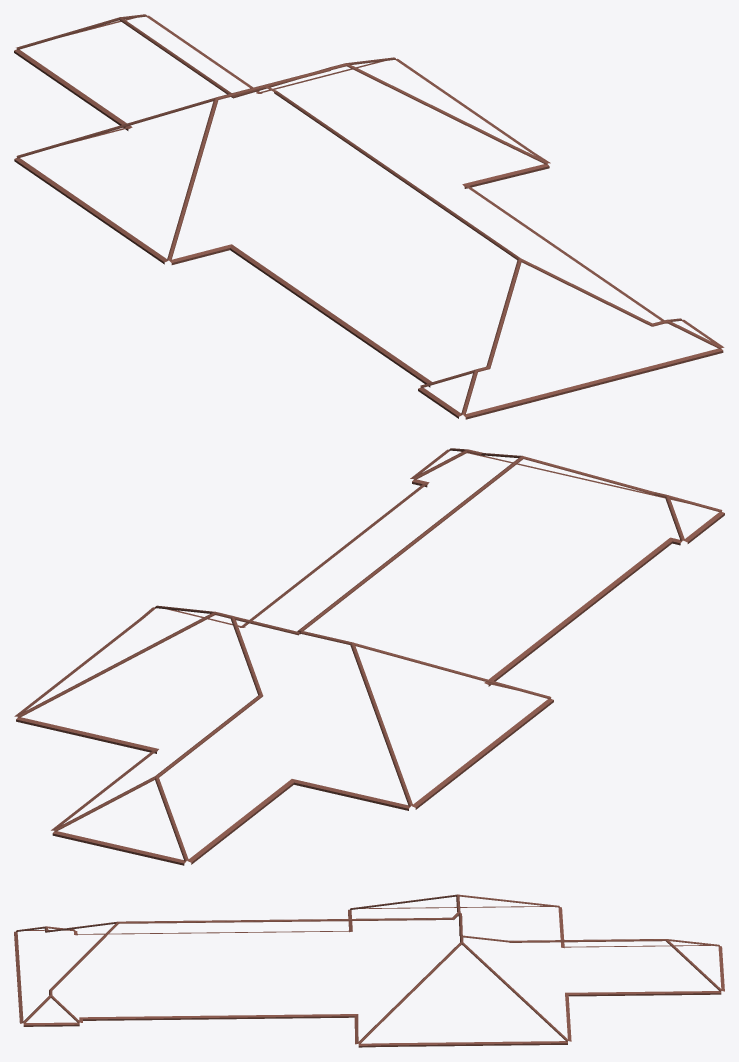
3 views of the same model, one above another, from view 1: azimuth 30°, elevation 25°; view 2: azimuth 150°, elevation 25°; view 3: azimuth 270°, elevation 25° (orthographic). The views are drawn at different scales.
Parts seen in each view (by area): view 1: detail; view 2: detail; view 3: detail.
Boxes of the visible parts, x1=… form: detail: x1=14, y1=14, x2=724, y2=419; detail: x1=14, y1=448, x2=724, y2=865; detail: x1=14, y1=894, x2=724, y2=1047.
Size of the model in its own units: 29.43 by 5.95 by 63.12.
